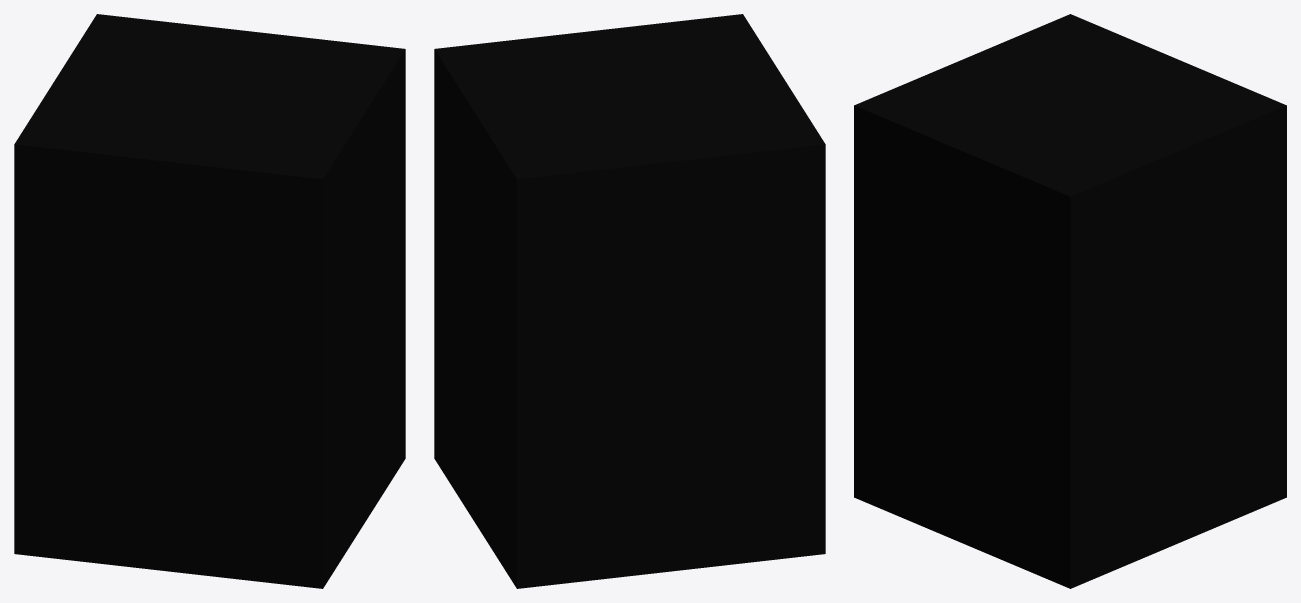
The model's file is textured_embedded.fbx.
3 renders of one model, left to right at view 1: azimuth 30°, elevation 25°; view 2: azimuth 150°, elevation 25°; view 3: azimuth 270°, elevation 25°, orthographic. The views are drawn at different scales.
Parts seen in each view (by area): view 1: Crate; view 2: Crate; view 3: Crate.
Part boxes in pixels (x1,y1,x2,y2): Crate: (14,14,405,588); Crate: (434,14,825,588); Crate: (854,14,1286,588).
Bounding box in the file's own units: 100 × 100 × 100.
Materials: 1 (1 with a texture image).
